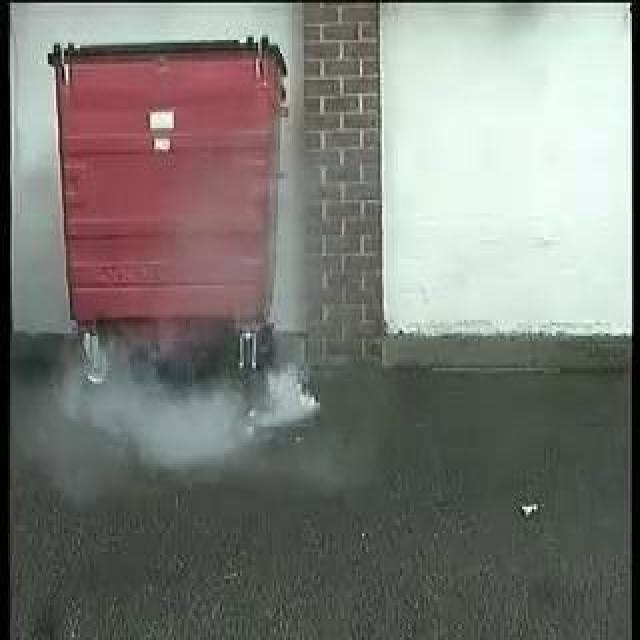Smoke: (103, 349, 325, 462)
